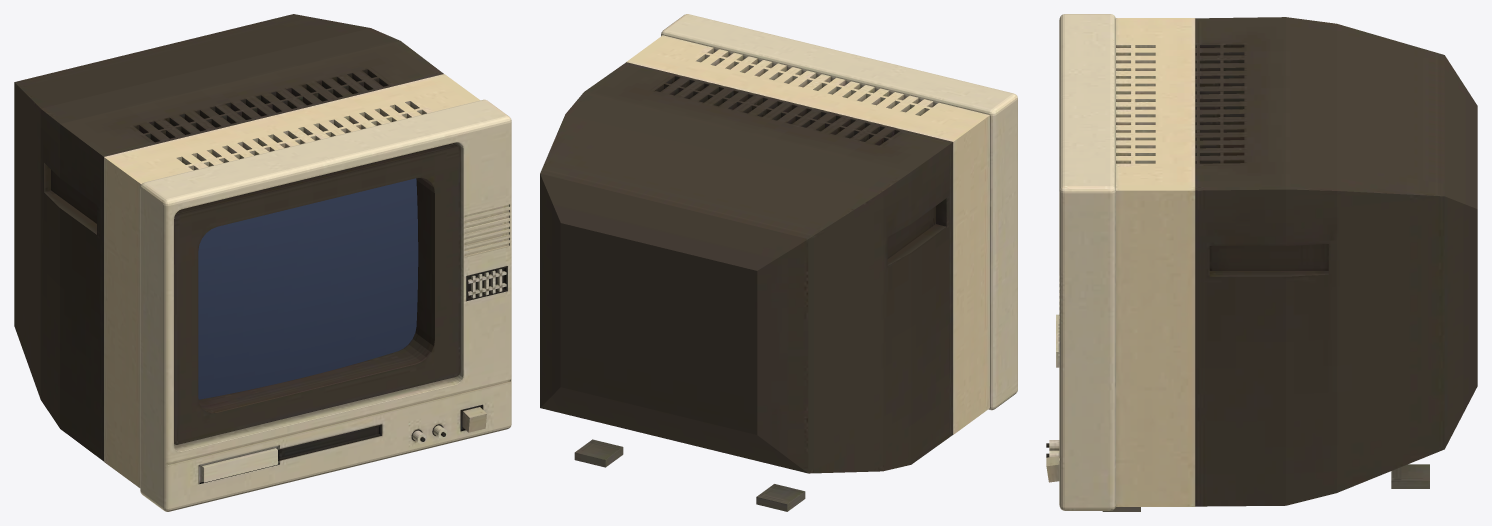
The model's file is homecrt-b.glb.
3 views of the same model, side by side, from view 1: azimuth 30°, elevation 25°; view 2: azimuth 150°, elevation 25°; view 3: azimuth 270°, elevation 25° (orthographic). The views are drawn at different scales.
Visible parts, largest first — view 1: case-baked, glass; view 2: case-baked; view 3: case-baked.
Part boxes in pixels (left/top/right/bottom): case-baked: left=14, top=14, right=511, bottom=511; glass: left=198, top=178, right=418, bottom=399; case-baked: left=540, top=14, right=1017, bottom=511; case-baked: left=1046, top=14, right=1477, bottom=511.
Bounding box in the file's own units: 0.368 × 0.324 × 0.3806.
Materials: 2 (1 with a texture image).
